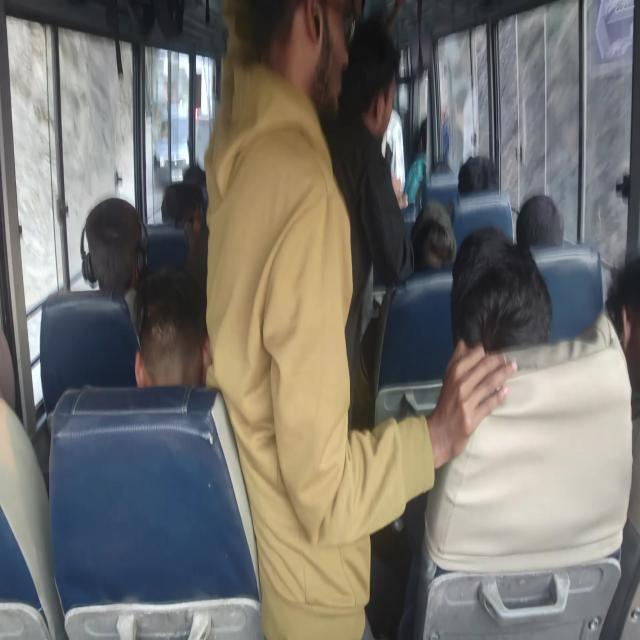person: (242, 0, 348, 130), (448, 257, 554, 383), (134, 283, 218, 408), (80, 202, 158, 310), (344, 34, 390, 144), (599, 274, 640, 358), (0, 328, 29, 433), (157, 177, 213, 226), (414, 211, 454, 276), (516, 194, 562, 242), (458, 160, 500, 195), (418, 123, 441, 164), (178, 152, 209, 182)
